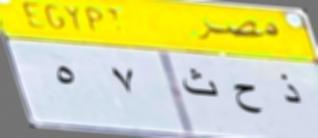5: (53, 60, 80, 92)
7: (109, 61, 141, 97)
7aa: (231, 80, 264, 123)
thaa: (181, 64, 219, 103)
zaal: (272, 71, 305, 110)
